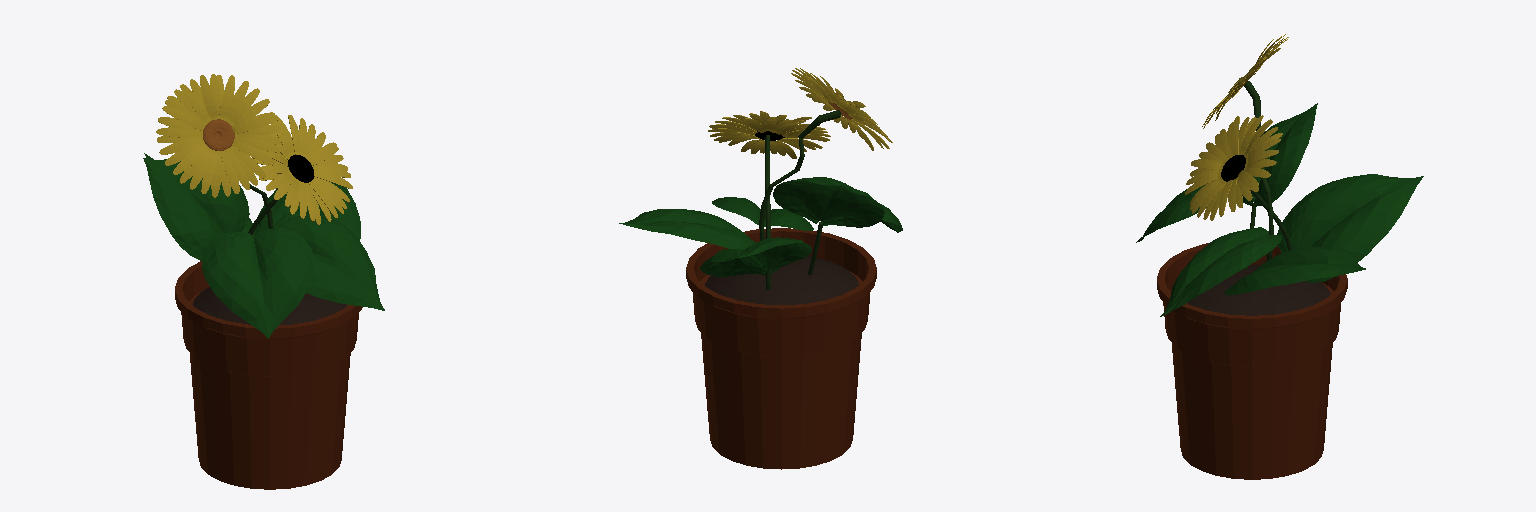
Rendered from flowerpot.obj.
The picture shows the model from 3 angles: view 1: azimuth 30°, elevation 25°; view 2: azimuth 150°, elevation 25°; view 3: azimuth 270°, elevation 25°; orthographic projection.
Visible parts, largest first — view 1: RS_Flower_POT:pot_plant_renderman1:plant_pot RS_Flower_POT:pot_p, RS_Flower_POT:pot_plant_renderman1:plant_pot; view 2: RS_Flower_POT:pot_plant_renderman1:plant_pot, RS_Flower_POT:pot_plant_renderman1:plant_pot RS_Flower_POT:pot_p; view 3: RS_Flower_POT:pot_plant_renderman1:plant_pot RS_Flower_POT:pot_p, RS_Flower_POT:pot_plant_renderman1:plant_pot.
Boxes of the visible parts, <box> form: RS_Flower_POT:pot_plant_renderman1:plant_pot RS_Flower_POT:pot_p: <box>143,74,384,338</box>; RS_Flower_POT:pot_plant_renderman1:plant_pot: <box>175,261,362,489</box>; RS_Flower_POT:pot_plant_renderman1:plant_pot: <box>686,228,876,469</box>; RS_Flower_POT:pot_plant_renderman1:plant_pot RS_Flower_POT:pot_p: <box>619,68,902,304</box>; RS_Flower_POT:pot_plant_renderman1:plant_pot RS_Flower_POT:pot_p: <box>1136,34,1423,316</box>; RS_Flower_POT:pot_plant_renderman1:plant_pot: <box>1157,243,1347,479</box>.
Bounding box in the file's own units: 19.1 × 32.79 × 22.16.